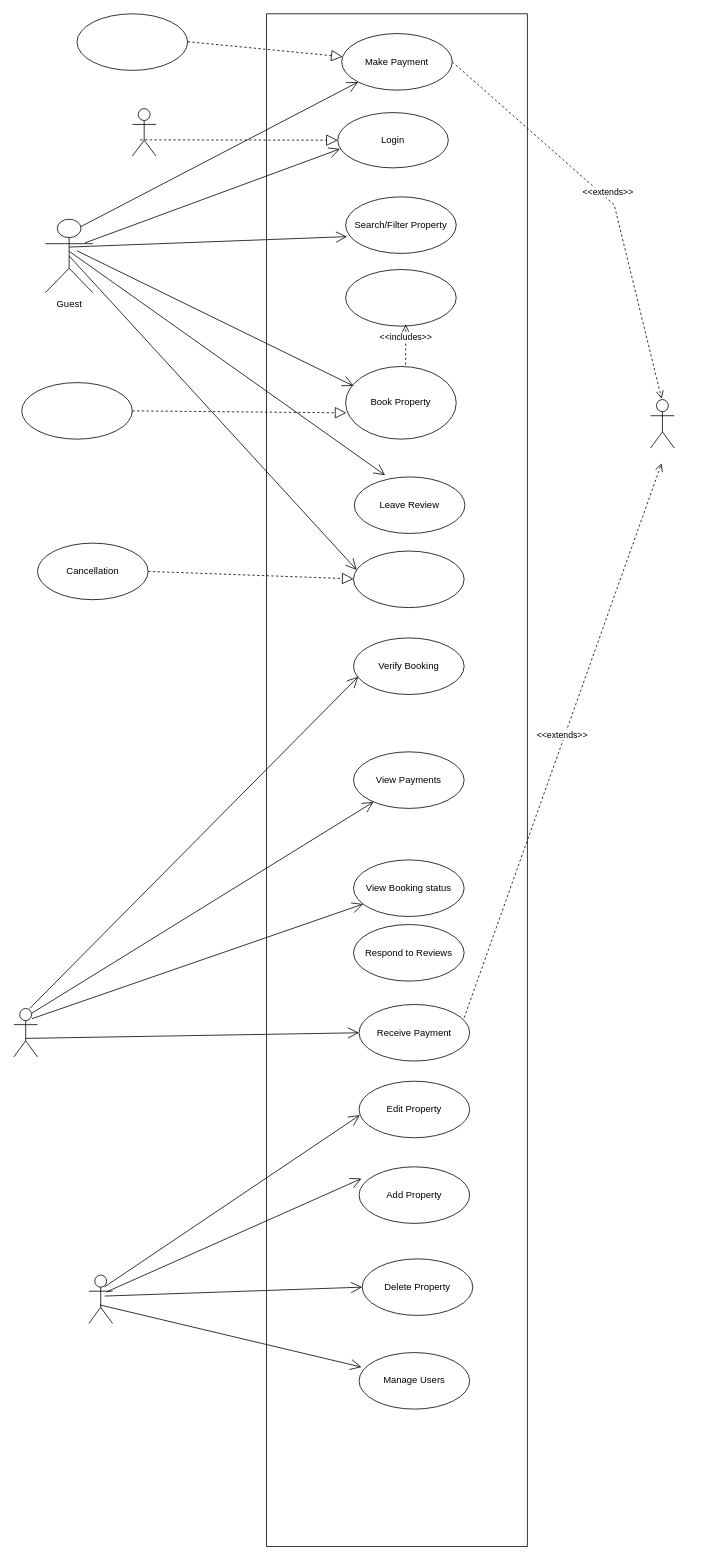
This 715x1560 diagram has some shape labels left out. Here are the shapes that lost their labels. From the top down, the box of each, then its label:
(76, 13, 188, 70): Payment Receipt
(132, 108, 156, 156): OAuth
(345, 269, 456, 326): Check Availability
(21, 382, 132, 439): Booking Confirmation
(650, 399, 674, 448): Payment Gateway
(353, 550, 464, 608): Cancel Booking
(13, 1008, 38, 1057): Host
(88, 1274, 113, 1323): Admin
